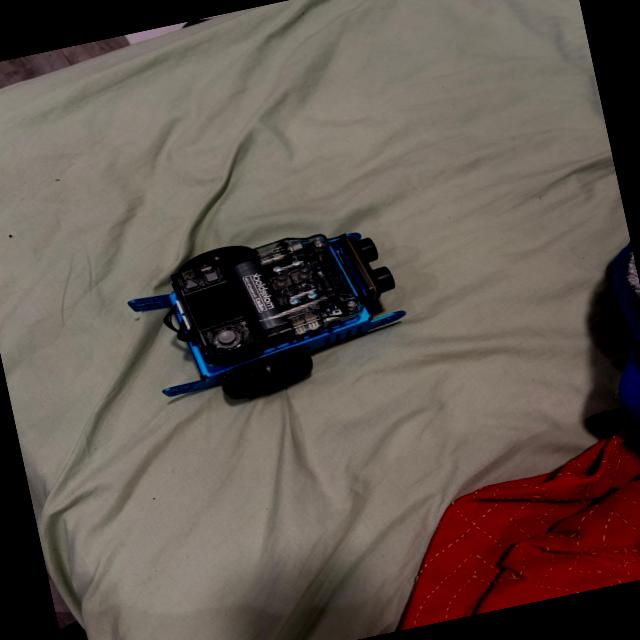mbot-detection: (116, 207, 424, 424)
